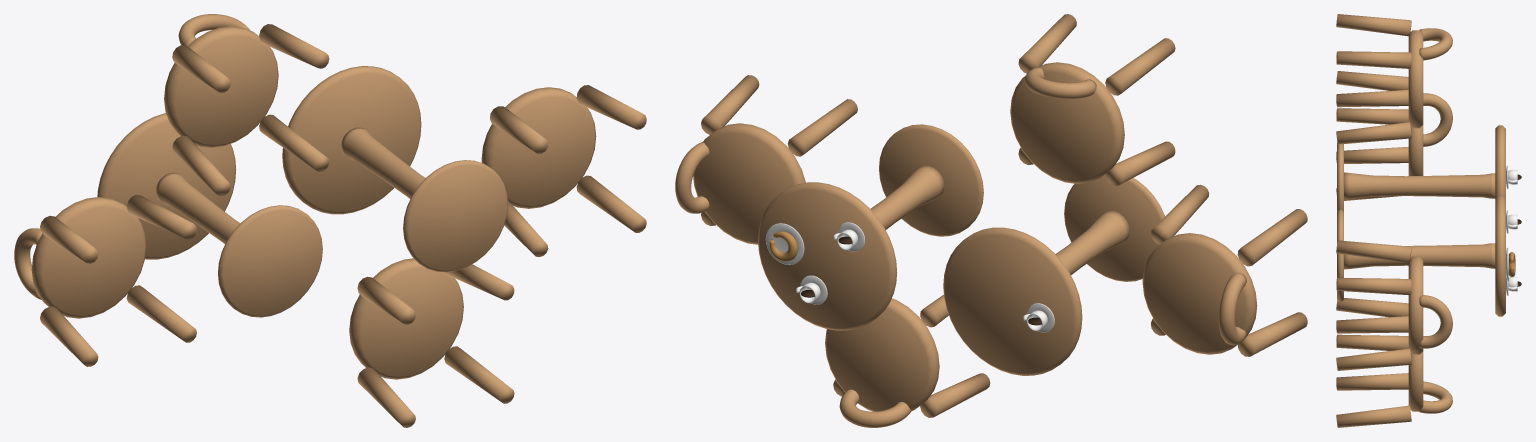
Rendered from 19-cafe-table-set.glb.
3 views of the same model, side by side, from view 1: azimuth 30°, elevation 25°; view 2: azimuth 150°, elevation 25°; view 3: azimuth 270°, elevation 25° (orthographic). The views are drawn at different scales.
Parts seen in each view (by area): view 1: TableB_Top, ChairAS_Seat, ChairAW_Seat, ChairBN_Seat, ChairBE_Seat, TableA_Foot, TableB_Foot, TableA_Top, TableB_Column, TableA_Column, ChairBE_Leg_+1+1, ChairAS_Leg_+1-1 (+16 smaller); view 2: TableA_Top, TableB_Top, ChairAS_Seat, ChairAW_Seat, ChairBN_Seat, ChairBE_Seat, TableB_Foot, TableA_Foot, TableA_Column, TableB_Column, ChairAW_Leg_+1+1, ChairBE_Leg_-1-1 (+12 smaller); view 3: TableA_Column, TableB_Column, ChairAS_Seat, ChairBE_Seat, TableB_Top, ChairAS_Leg_+1+1, ChairAS_Leg_+1-1, ChairBE_Leg_+1+1, ChairBE_Leg_-1+1, ChairBN_Leg_-1+1, ChairAS_Leg_-1+1, ChairBE_Leg_-1-1 (+17 smaller).
Boxes of the visible parts, x1,y1,x2,y2 form: TableB_Top: (282, 66, 421, 214); ChairAS_Seat: (164, 26, 278, 147); ChairAW_Seat: (31, 197, 146, 318); ChairBN_Seat: (349, 258, 463, 379); ChairBE_Seat: (481, 87, 596, 208); TableA_Foot: (218, 205, 322, 317); TableB_Foot: (403, 160, 507, 272); TableA_Top: (97, 113, 236, 259); TableB_Column: (341, 127, 425, 198); TableA_Column: (155, 172, 240, 243); ChairBE_Leg_+1+1: (576, 175, 646, 232); ChairAS_Leg_+1-1: (259, 114, 329, 171); TableA_Top: (943, 227, 1082, 375); TableB_Top: (758, 182, 897, 330); ChairAS_Seat: (1010, 62, 1124, 183); ChairAW_Seat: (1142, 233, 1257, 354); ChairBN_Seat: (825, 298, 939, 411); ChairBE_Seat: (693, 123, 805, 244); TableB_Foot: (879, 124, 983, 236); TableA_Foot: (1064, 174, 1164, 281); TableA_Column: (1055, 211, 1129, 274); TableB_Column: (870, 165, 944, 229); ChairAW_Leg_+1+1: (1237, 209, 1307, 266); ChairBE_Leg_-1-1: (787, 99, 857, 156); TableA_Column: (1344, 172, 1495, 199); TableB_Column: (1344, 243, 1495, 269); ChairAS_Seat: (1408, 30, 1423, 128); ChairBE_Seat: (1408, 256, 1423, 354); TableB_Top: (1495, 195, 1505, 316); ChairAS_Leg_+1+1: (1336, 51, 1411, 68); ChairAS_Leg_+1-1: (1336, 122, 1411, 144); ChairBE_Leg_+1+1: (1336, 348, 1411, 370); ChairBE_Leg_-1+1: (1336, 277, 1411, 295); ChairBN_Leg_-1+1: (1336, 405, 1411, 427); ChairAS_Leg_-1+1: (1336, 14, 1411, 36); ChairBE_Leg_-1-1: (1336, 240, 1411, 262).
Size of the model in its own units: 2.56 by 1.72 by 0.9437.
